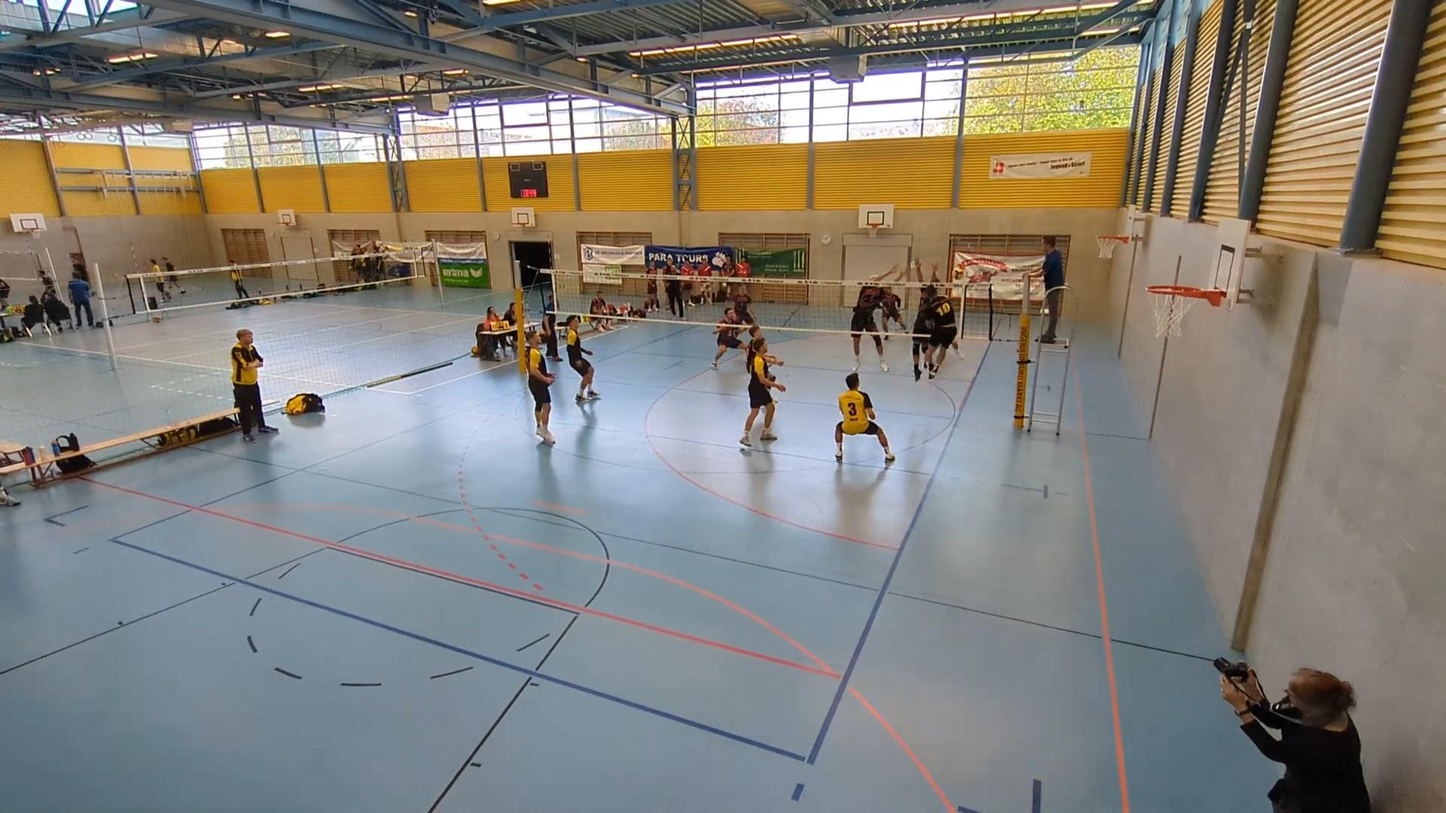Attack: (919, 275, 961, 376)
Block: (842, 246, 904, 377), (911, 245, 939, 381)
Player: (835, 373, 895, 461), (740, 336, 786, 446), (525, 331, 554, 445), (566, 315, 599, 403), (712, 308, 743, 369), (880, 288, 905, 340), (732, 283, 754, 324)
